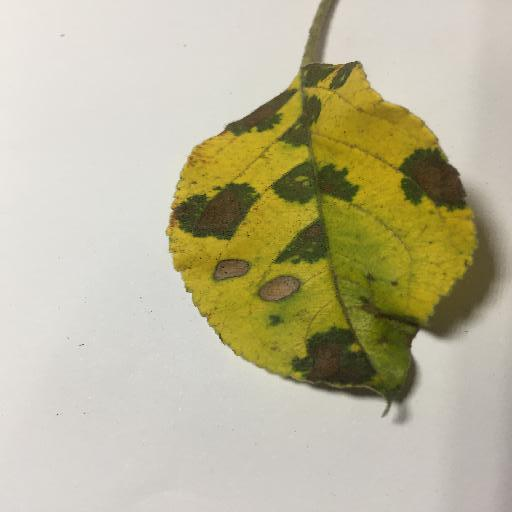Brown_Spot: (181, 190, 248, 228), (410, 164, 468, 204), (311, 343, 358, 382), (232, 96, 284, 129), (210, 260, 252, 277), (260, 281, 301, 296), (365, 300, 394, 320), (297, 226, 324, 237), (321, 183, 335, 193)
